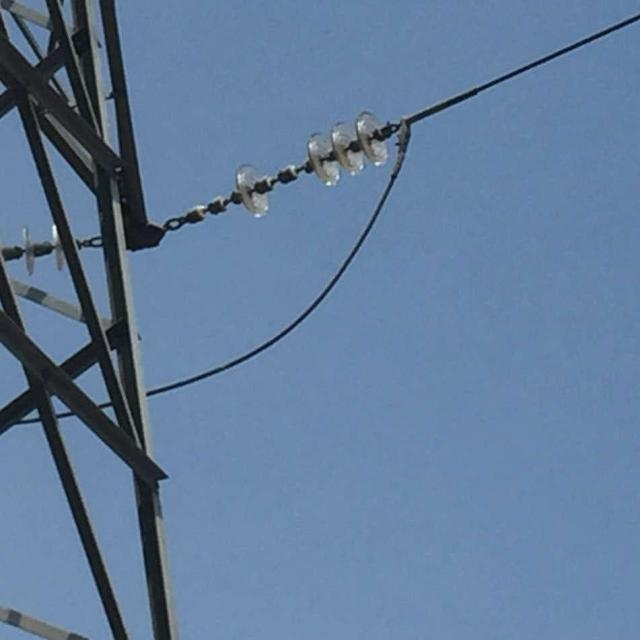杆塔: (1, 0, 184, 640)
正常电缆: (407, 7, 635, 135)
正常绝缘子: (217, 99, 390, 228)
绝缘子破损: (263, 167, 285, 195), (288, 156, 308, 186)
